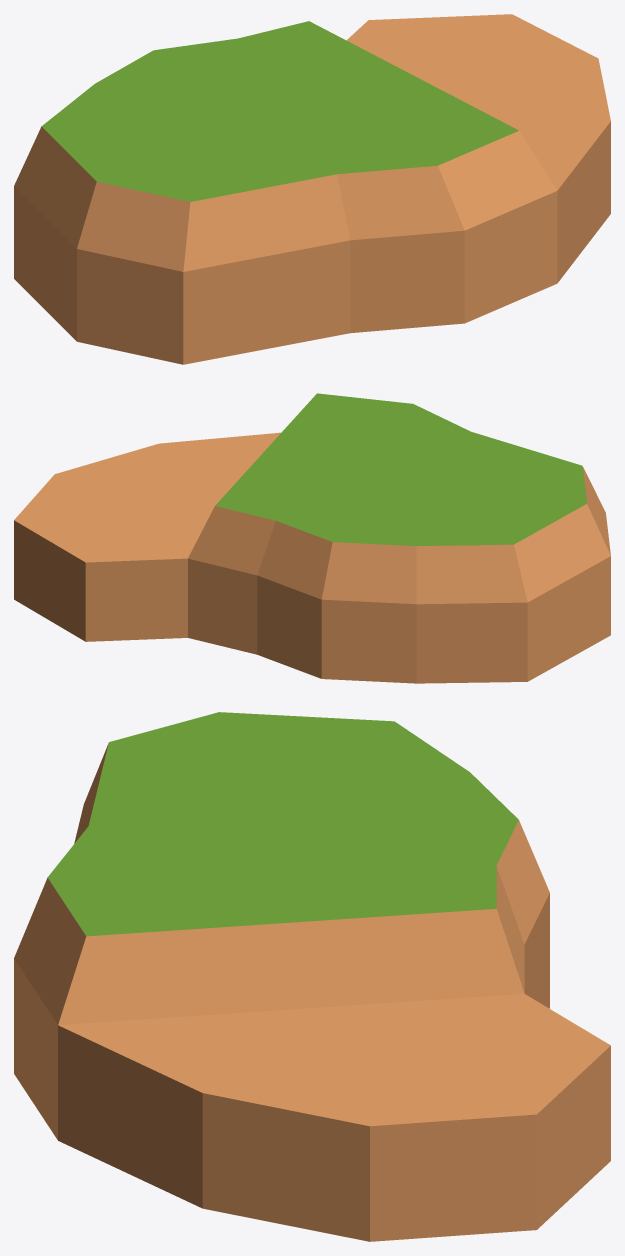
File: Ostrvo_02.fbx
3 views of the same model, one above another, from view 1: azimuth 30°, elevation 25°; view 2: azimuth 150°, elevation 25°; view 3: azimuth 270°, elevation 25° (orthographic). The views are drawn at different scales.
Parts seen in each view (by area): view 1: Circle.004; view 2: Circle.004; view 3: Circle.004.
Boxes of the visible parts, left/top/right/bottom form: Circle.004: left=14, top=14, right=610, bottom=364; Circle.004: left=14, top=393, right=610, bottom=683; Circle.004: left=14, top=712, right=610, bottom=1241.
Size of the model in its own units: 508 by 125 by 360.
